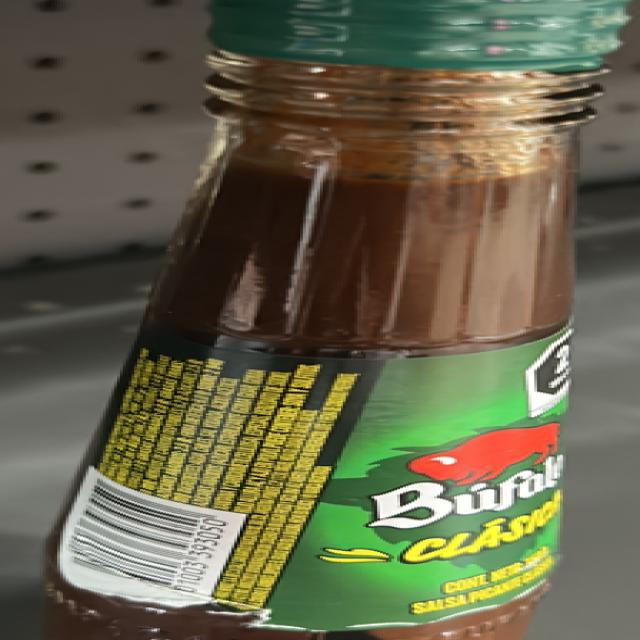salsaBufalo: (115, 0, 574, 636)
